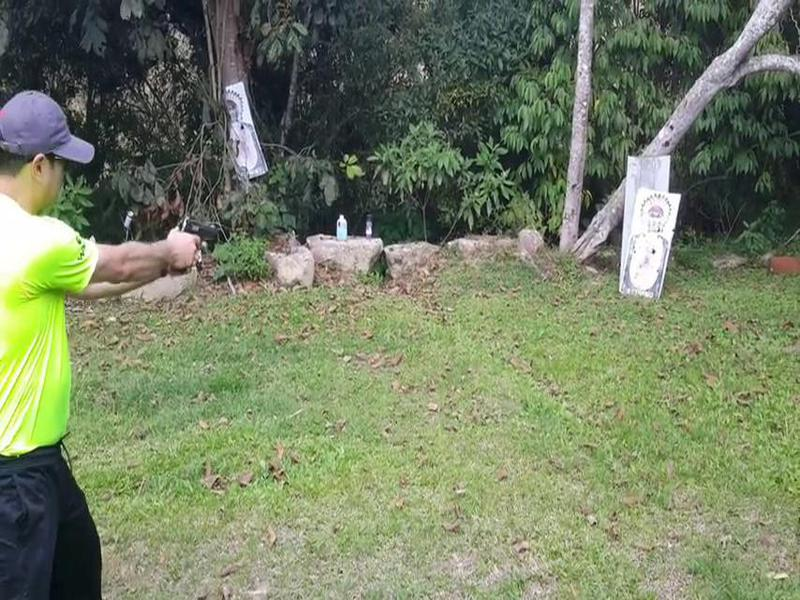Pistola: (170, 204, 233, 273)
